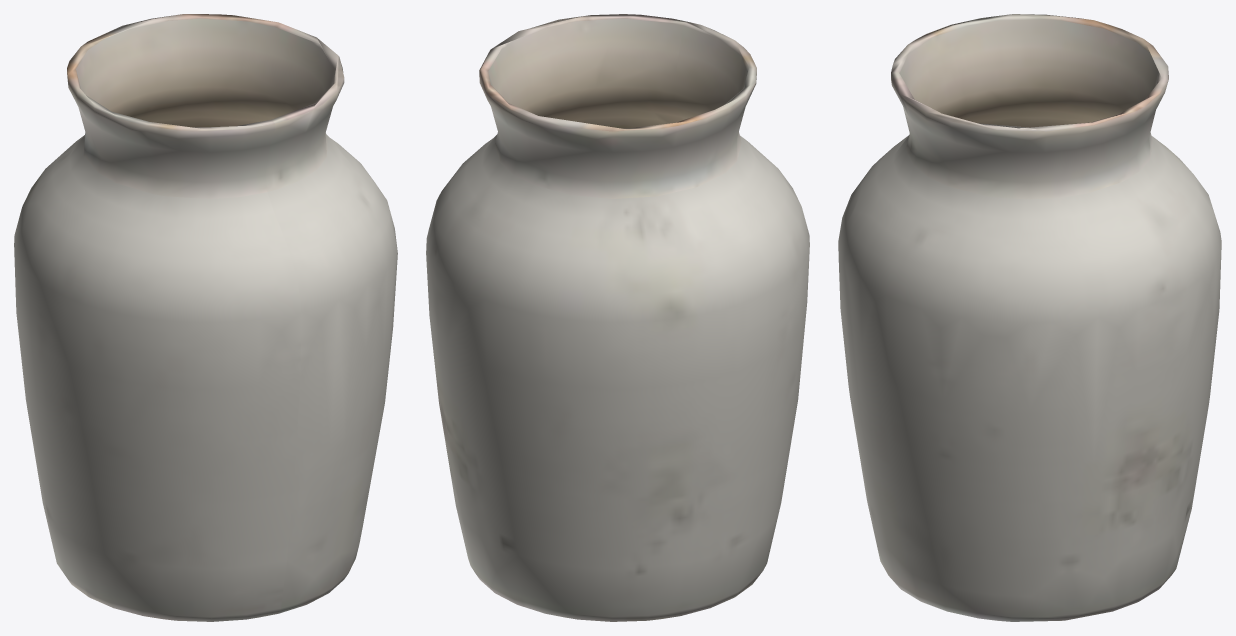
Rendered from ph_ceramic_vase_02.glb.
The picture shows the model from 3 angles, left to right: view 1: azimuth 30°, elevation 25°; view 2: azimuth 150°, elevation 25°; view 3: azimuth 270°, elevation 25°; orthographic projection.
Visible parts, largest first — view 1: ceramic_vase_02; view 2: ceramic_vase_02; view 3: ceramic_vase_02.
Part boxes in pixels (bbox=[...]): ceramic_vase_02: bbox=[14, 14, 397, 621]; ceramic_vase_02: bbox=[426, 14, 809, 621]; ceramic_vase_02: bbox=[838, 14, 1221, 621].
Bounding box in the file's own units: 0.2176 × 0.3091 × 0.2176.
1 material, 1 textured.
